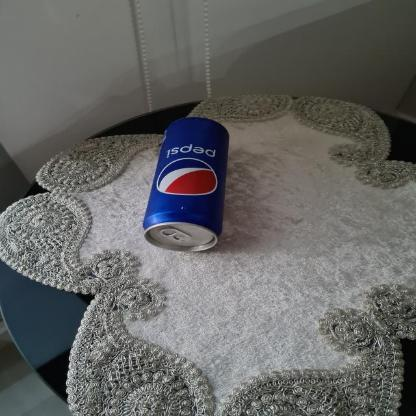Can: (138, 110, 244, 262)
